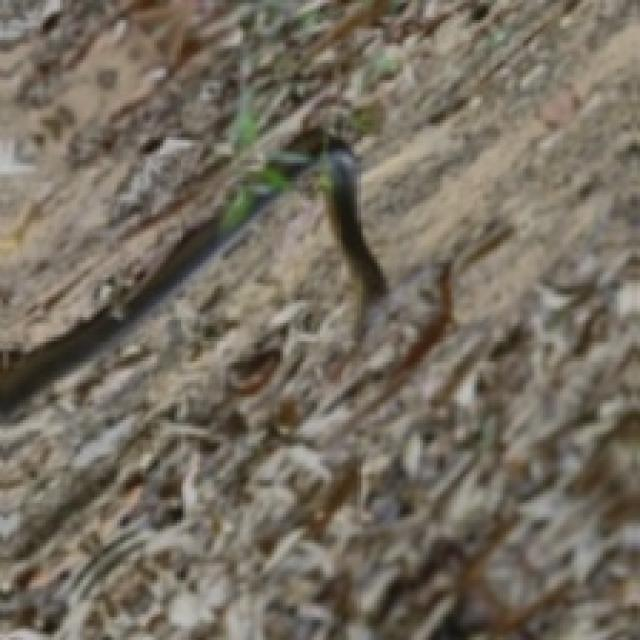king cobra: (0, 129, 386, 409)
